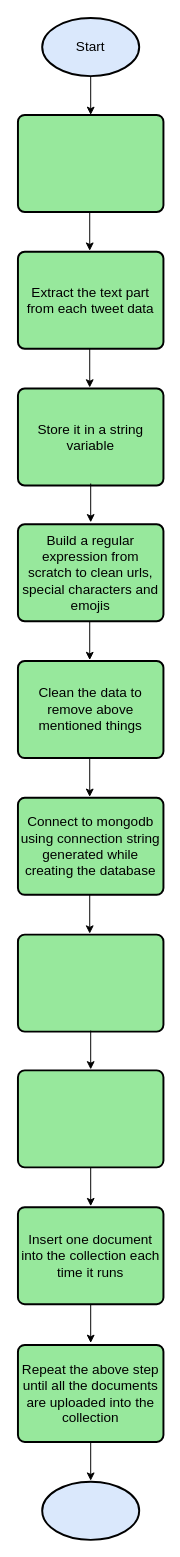
Image size: 180x1557. Some labels were removed from this diagram. Here are the shapes that lost their labels. From the top down, the centre of each, then its label:
At point 90,162: "Load the data from the files".
At point 90,982: "Select the database".
At point 90,1118: "Select the collection in which the data has to be kept".
At point 90,1510: "Stop".
